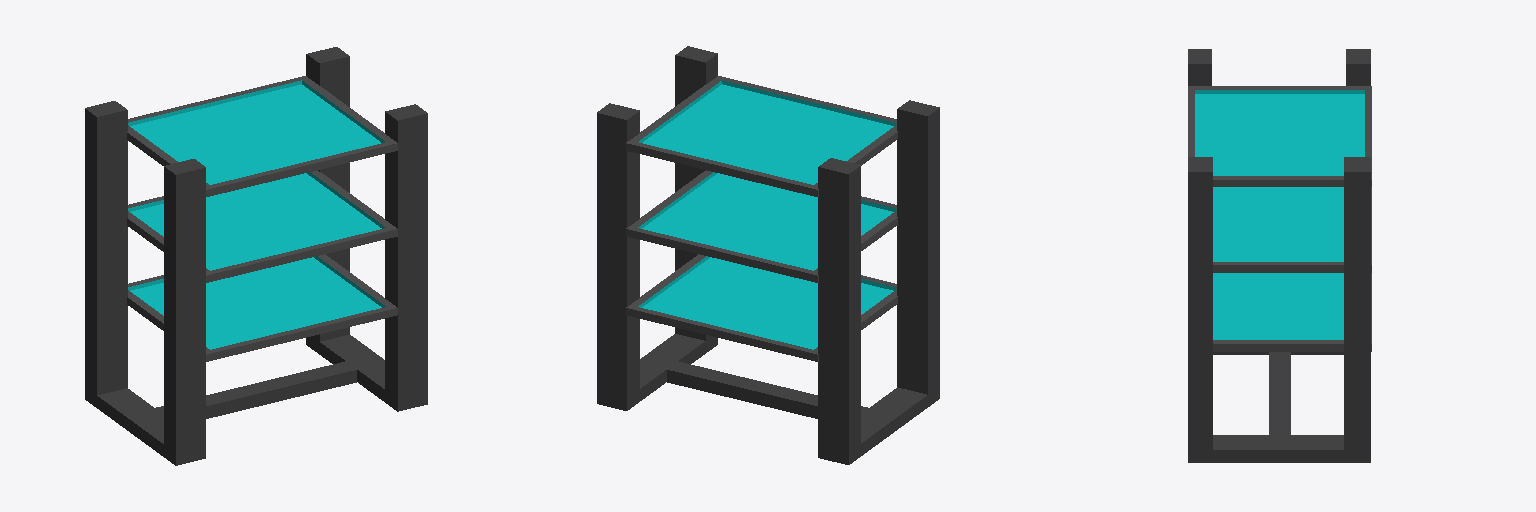
The model's file is portaOggetti.obj.
The picture shows the model from 3 angles: view 1: azimuth 30°, elevation 25°; view 2: azimuth 150°, elevation 25°; view 3: azimuth 270°, elevation 25°; orthographic projection.
Visible parts, largest first — view 1: base_Plane, piano3_Plane.007, piano_2_Plane.006, piano_1_Plane.001; view 2: base_Plane, piano3_Plane.007, piano_2_Plane.006, piano_1_Plane.001; view 3: base_Plane, piano3_Plane.007, piano_2_Plane.006, piano_1_Plane.001.
Part boxes in pixels (bbox=[...]): base_Plane: bbox=[85, 47, 427, 465]; piano3_Plane.007: bbox=[127, 76, 397, 196]; piano_2_Plane.006: bbox=[127, 170, 397, 282]; piano_1_Plane.001: bbox=[127, 254, 397, 361]; base_Plane: bbox=[597, 46, 939, 464]; piano3_Plane.007: bbox=[626, 76, 897, 196]; piano_2_Plane.006: bbox=[626, 170, 897, 282]; piano_1_Plane.001: bbox=[626, 254, 897, 361]; base_Plane: bbox=[1188, 49, 1370, 462]; piano3_Plane.007: bbox=[1188, 86, 1371, 186]; piano_2_Plane.006: bbox=[1213, 187, 1371, 272]; piano_1_Plane.001: bbox=[1213, 273, 1371, 351].
Bounding box in the file's own units: 2 × 2.2 × 1.26.